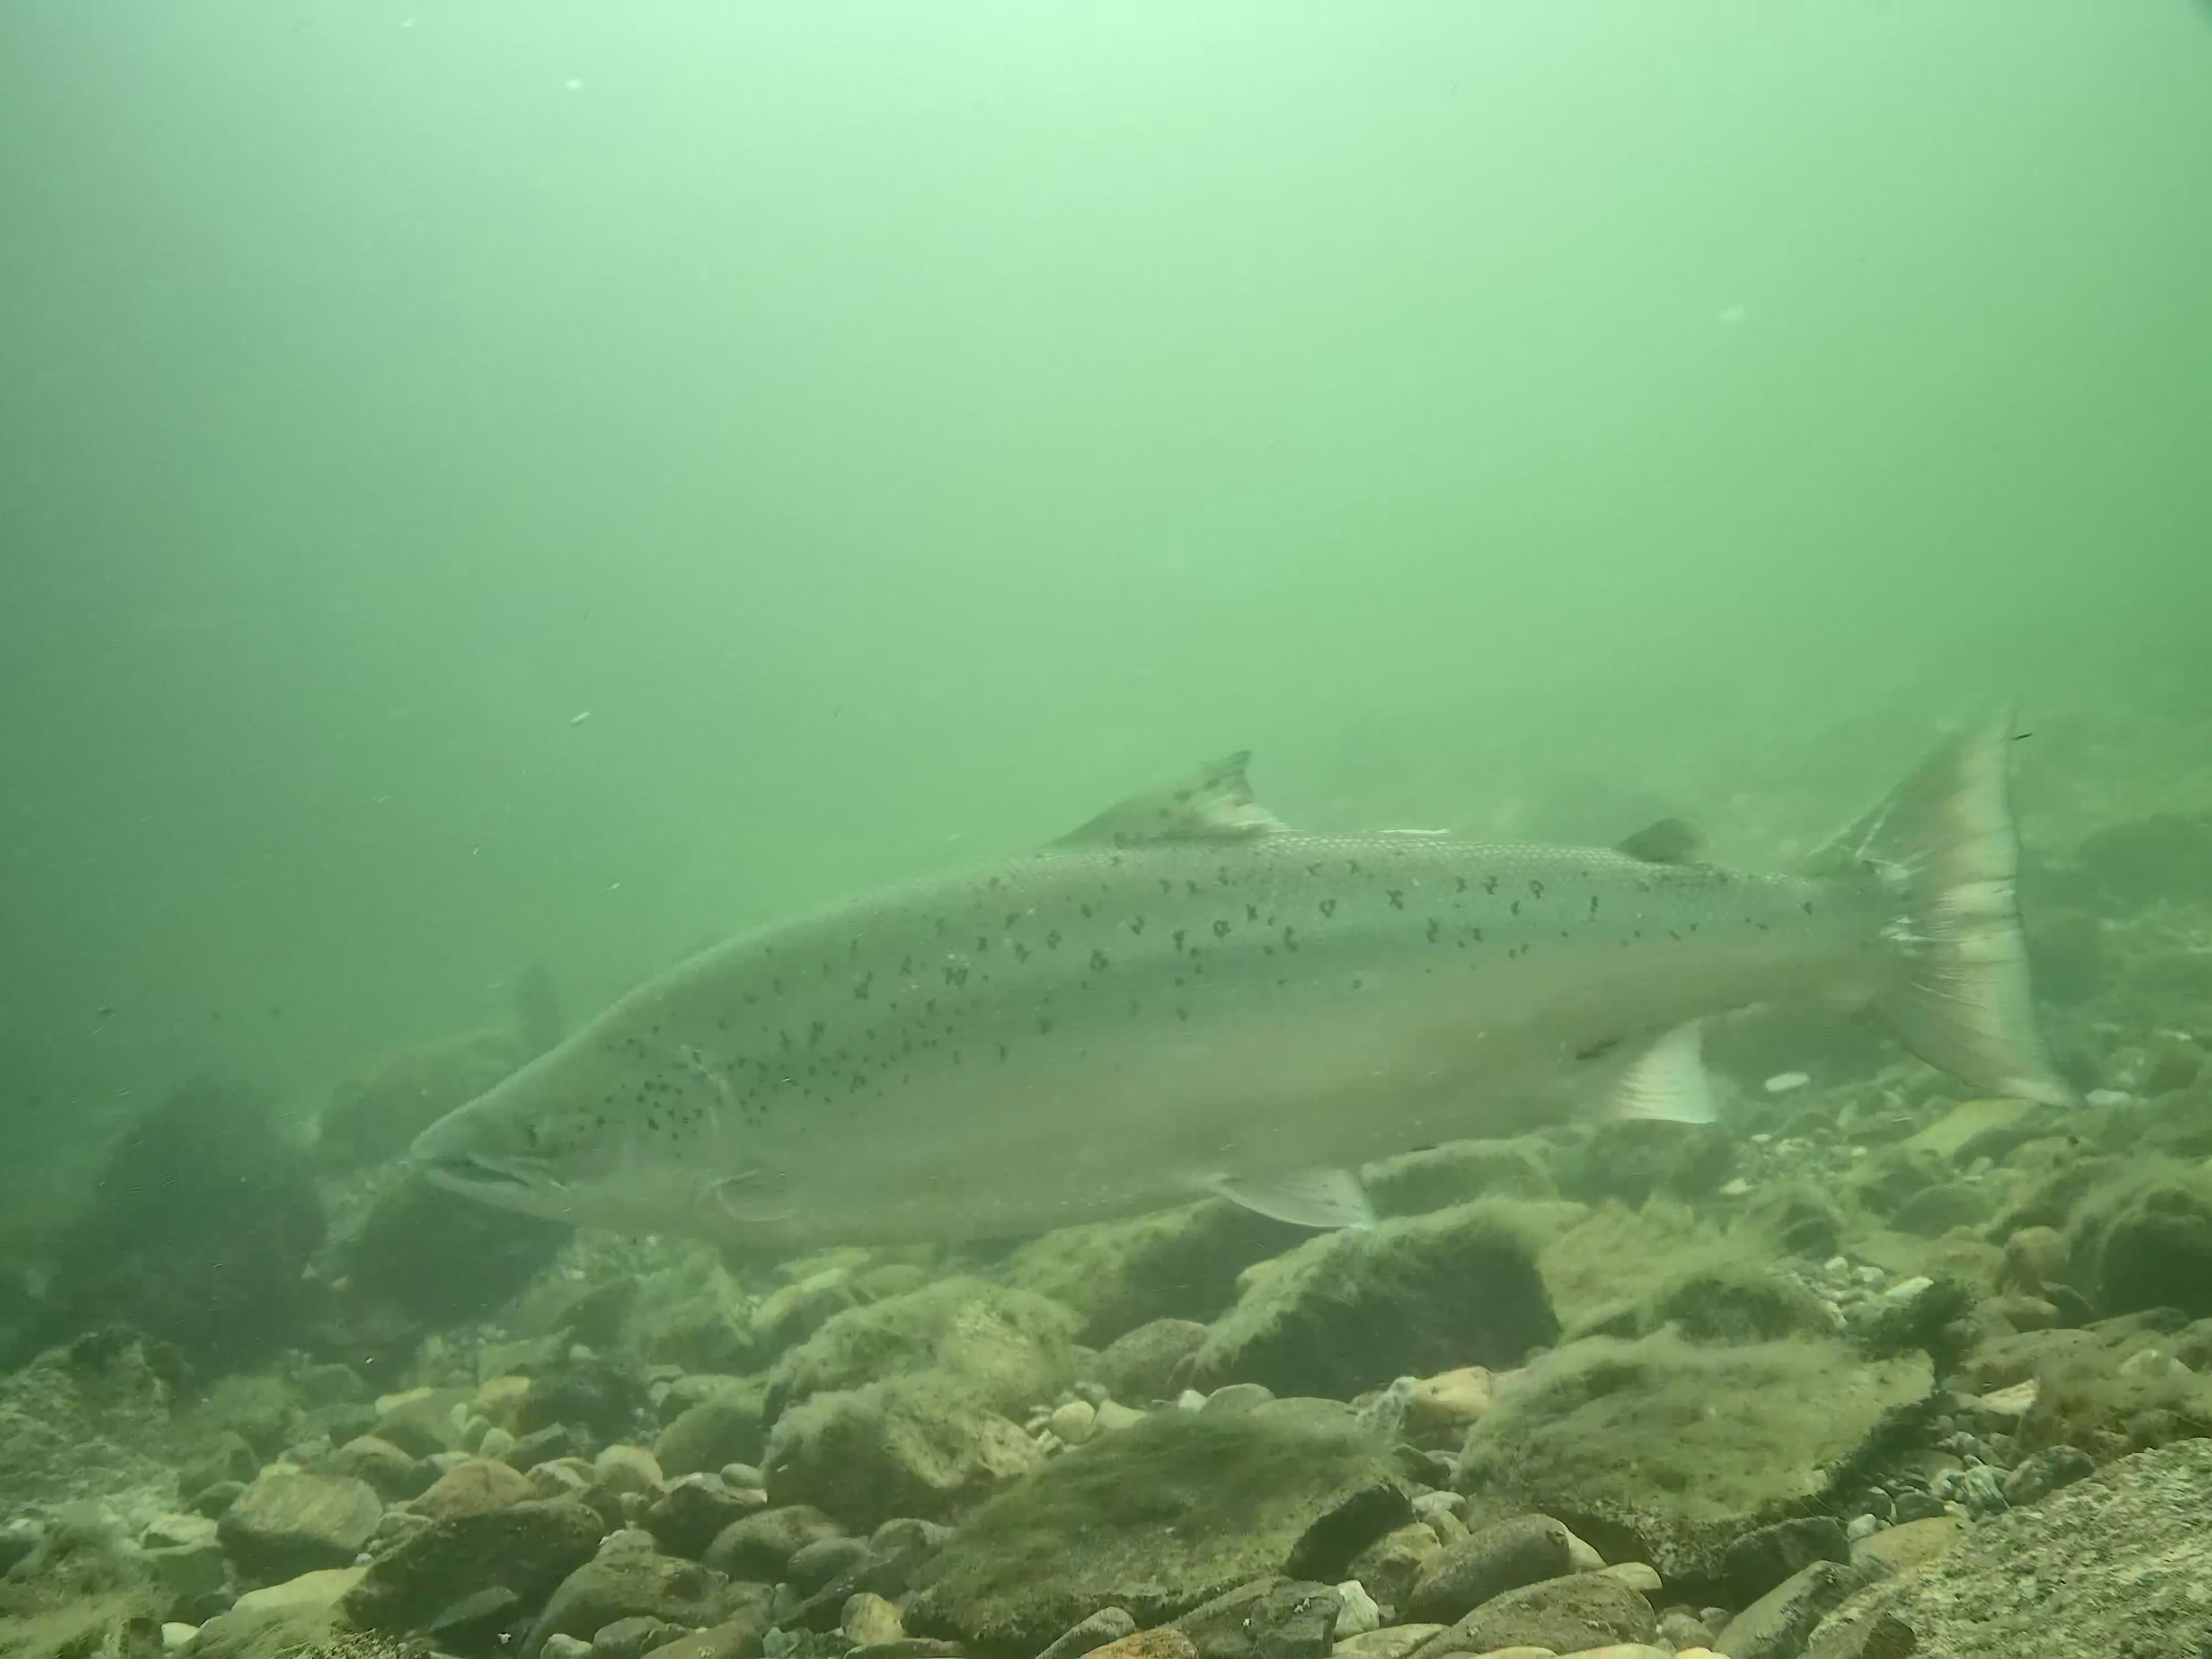salmon: (401, 685, 2087, 1260)
